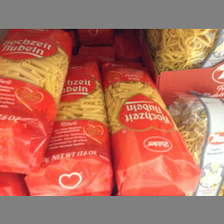pasta: (102, 61, 203, 195), (29, 57, 110, 194), (1, 29, 72, 171)
